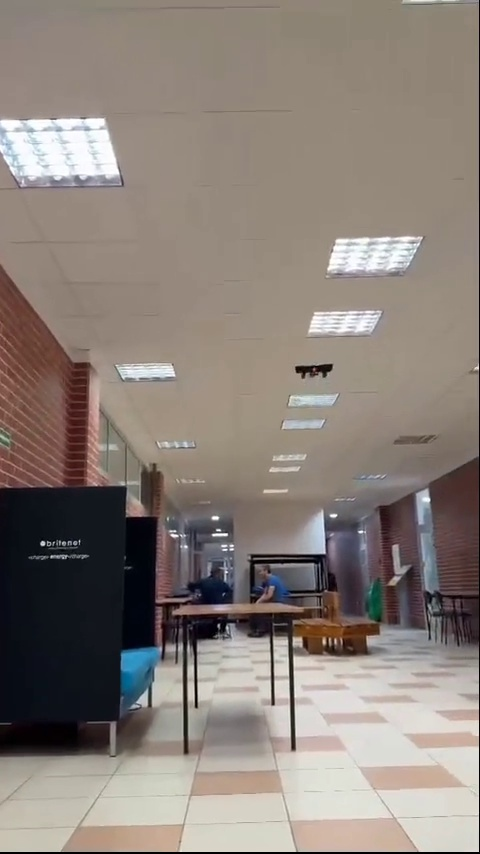drone: (297, 364, 333, 381)
no vest: (197, 563, 233, 604), (251, 565, 288, 604)
